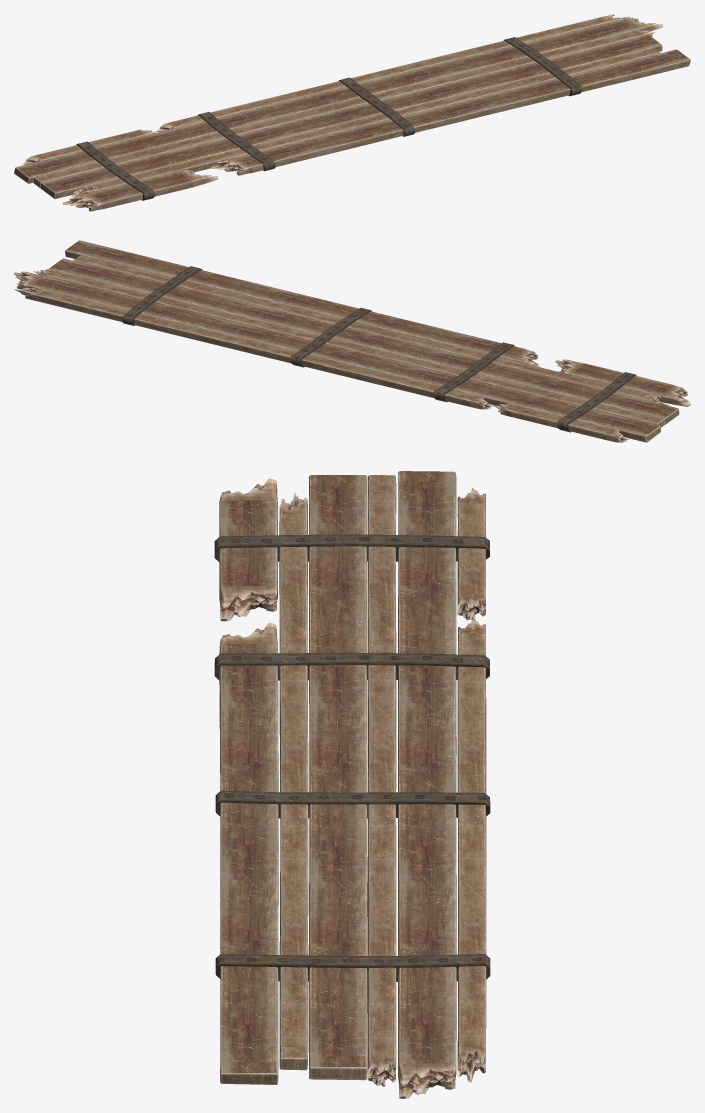
3 views of the same model, one above another, from view 1: azimuth 30°, elevation 25°; view 2: azimuth 150°, elevation 25°; view 3: azimuth 270°, elevation 25° (orthographic). The views are drawn at different scales.
Visible parts, largest first — view 1: SM_Planks_12m_02_LOD0; view 2: SM_Planks_12m_02_LOD0; view 3: SM_Planks_12m_02_LOD0.
Boxes of the visible parts, x1,y1,x2,y2 form: SM_Planks_12m_02_LOD0: (14, 14, 690, 211); SM_Planks_12m_02_LOD0: (14, 240, 690, 442); SM_Planks_12m_02_LOD0: (214, 471, 490, 1098).
Bounding box in the file's own units: 13.92 × 0.1737 × 2.61.
Materials: 2 (2 with a texture image).
